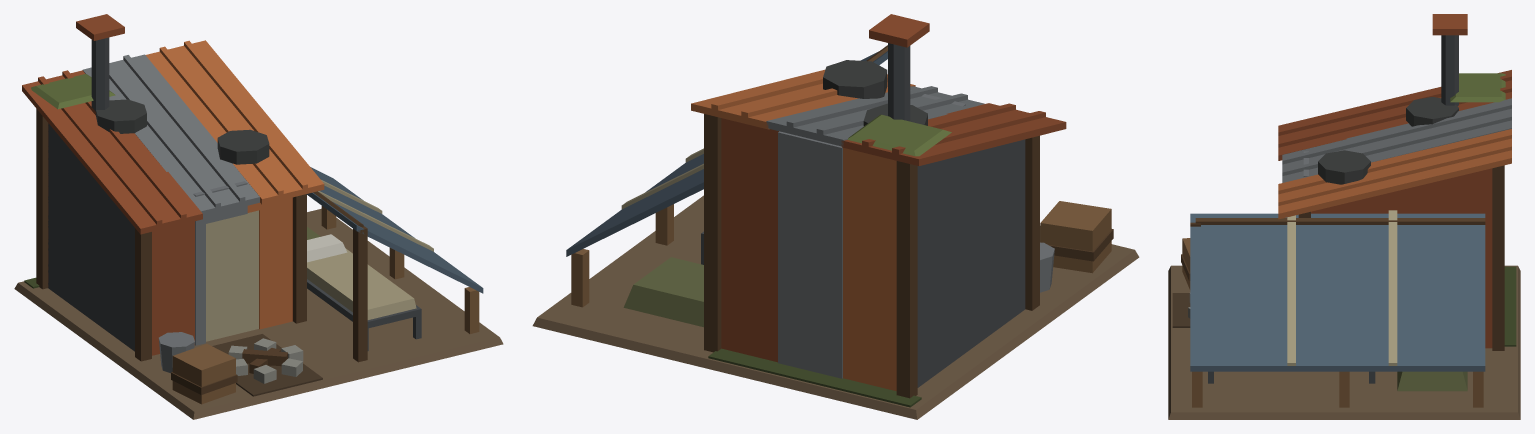
Rendered from shelter_l1.glb.
The picture shows the model from 3 angles, left to right: view 1: azimuth 30°, elevation 25°; view 2: azimuth 150°, elevation 25°; view 3: azimuth 270°, elevation 25°; orthographic projection. The views are drawn at different scales.
Parts seen in each view (by area): view 1: shelter_structure, shelter_roof, shelter_props; view 2: shelter_structure, shelter_props, shelter_roof; view 3: shelter_roof, shelter_structure, shelter_props.
Boxes of the visible parts, <box> form: shelter_structure: <box>14,123,503,419</box>; shelter_roof: <box>22,40,483,293</box>; shelter_props: <box>31,14,421,404</box>; shelter_structure: <box>532,45,1139,419</box>; shelter_props: <box>623,14,1113,398</box>; shelter_roof: <box>566,51,1066,256</box>; shelter_roof: <box>1190,70,1511,371</box>; shelter_structure: <box>1168,151,1520,419</box>; shelter_props: <box>1181,14,1505,391</box>.
Bounding box in the file's own units: 4 × 3.43 × 4.
